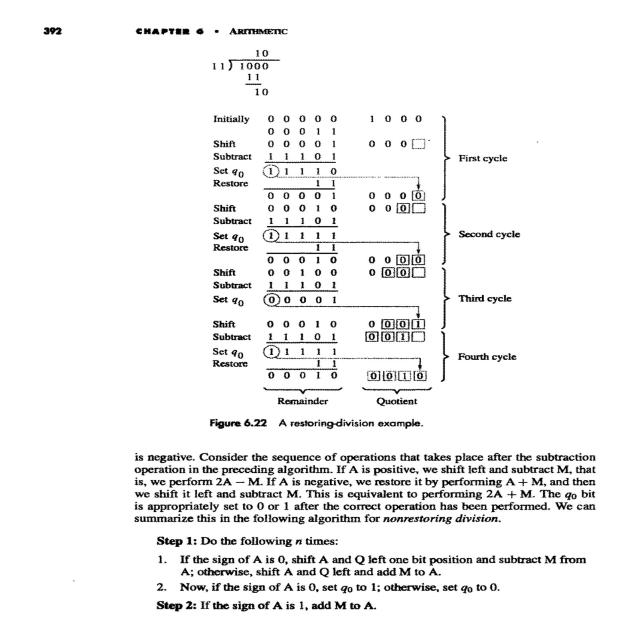diagram: (66, 40, 595, 442)
